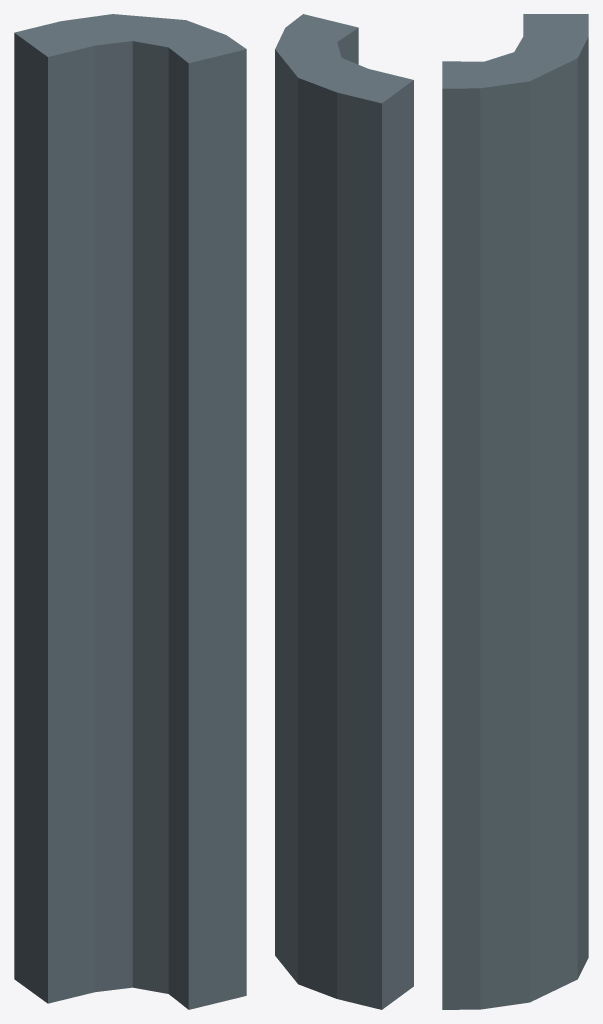
Rendered from Edge of Wall.fbx.
3 renders of one model, left to right at view 1: azimuth 30°, elevation 25°; view 2: azimuth 150°, elevation 25°; view 3: azimuth 270°, elevation 25°, orthographic. The views are drawn at different scales.
Visible parts, largest first — view 1: pCube322; view 2: pCube322; view 3: pCube322.
Part boxes in pixels (x1,y1,x2,y2): pCube322: (14, 14, 246, 1009); pCube322: (275, 14, 413, 1009); pCube322: (442, 14, 588, 1009).
Size of the model in its own units: 24.18 by 139 by 19.99.
